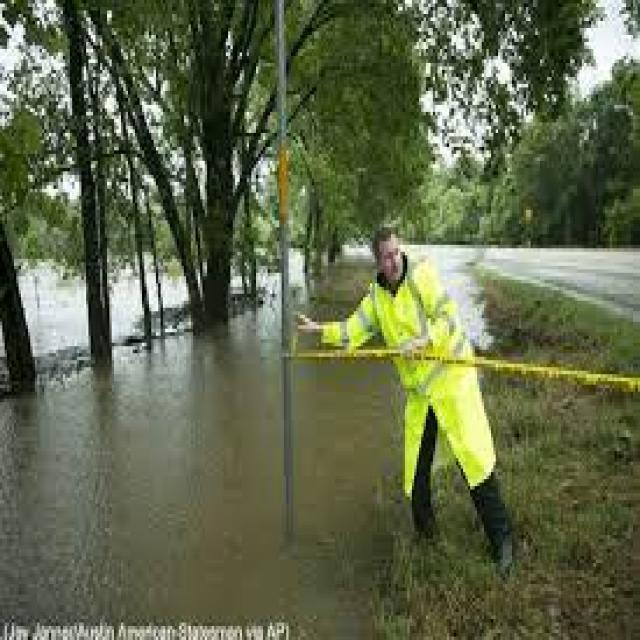rescuer: (269, 185, 570, 584)
